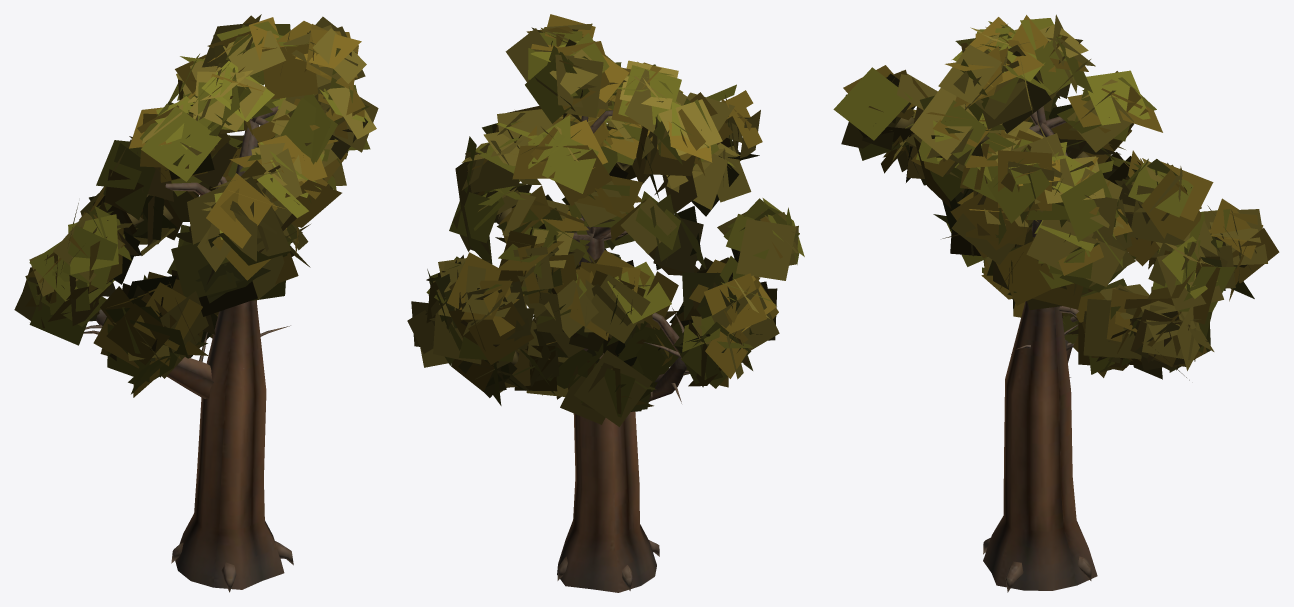
The model's file is tree-03.glb.
3 views of the same model, side by side, from view 1: azimuth 30°, elevation 25°; view 2: azimuth 150°, elevation 25°; view 3: azimuth 270°, elevation 25° (orthographic). The views are drawn at different scales.
Parts seen in each view (by area): view 1: tree-03; view 2: tree-03; view 3: tree-03.
Part boxes in pixels (x1=…): tree-03: x1=14, y1=14, x2=378, y2=592; tree-03: x1=407, y1=14, x2=804, y2=592; tree-03: x1=833, y1=14, x2=1279, y2=592.
Bounding box in the file's own units: 4.02 × 6.45 × 4.63.
3 materials, 1 textured.
